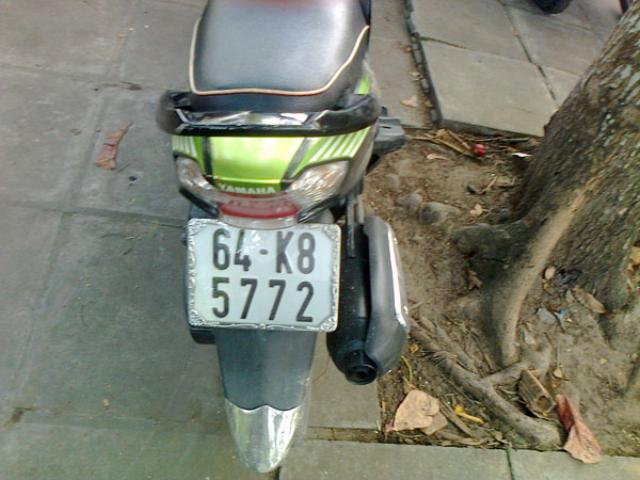plate: (196, 222, 334, 326)
